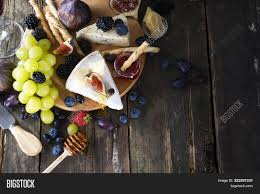Onion: (59, 1, 93, 28)
